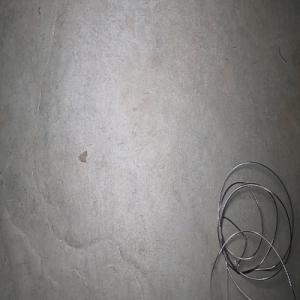Wire: (210, 161, 296, 300)
